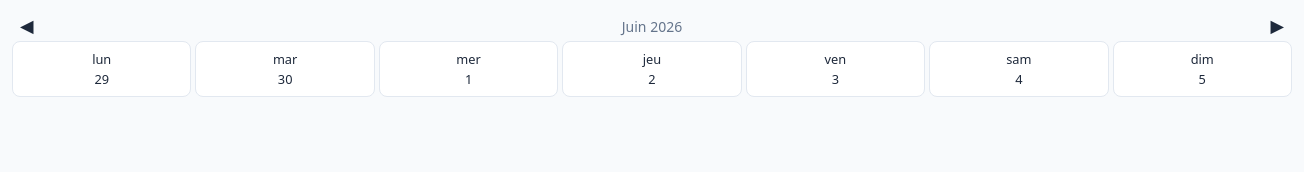
Test case: RoutineWeekdayPicker › navigue à la semaine suivante puis précédente
Click the button named "Semaine suivante" at (1277, 26), box [1262,12,1292,41]
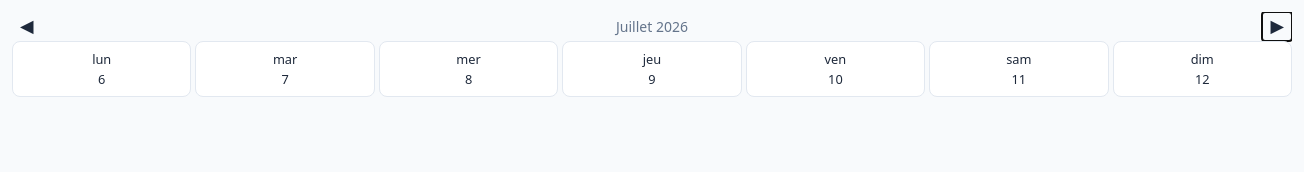
Check: the button labelled "lun 6" is shown, box [12,41,191,97]
Check: the button labelled "dim 12" is shown, box [1112,41,1292,97]
Click the button named "Semaine précédente" at (27, 26), box [12,12,42,41]
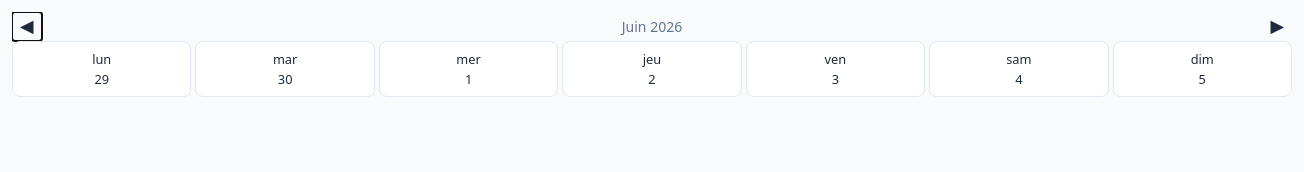
Click the button named "Semaine précédente" at (27, 26), box [12,12,42,41]
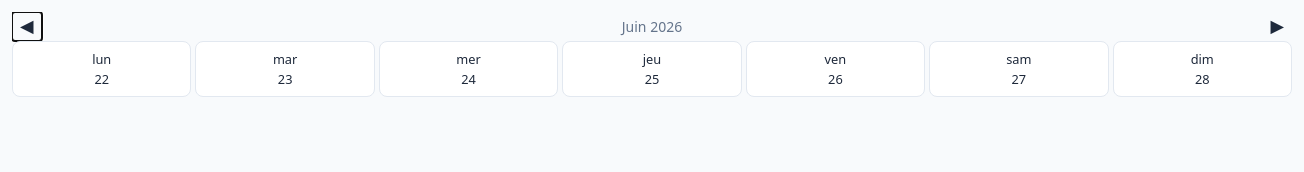
Check: the button labelled "lun 22" is shown, box [12,41,191,97]
Check: the button labelled "dim 28" is shown, box [1112,41,1292,97]
